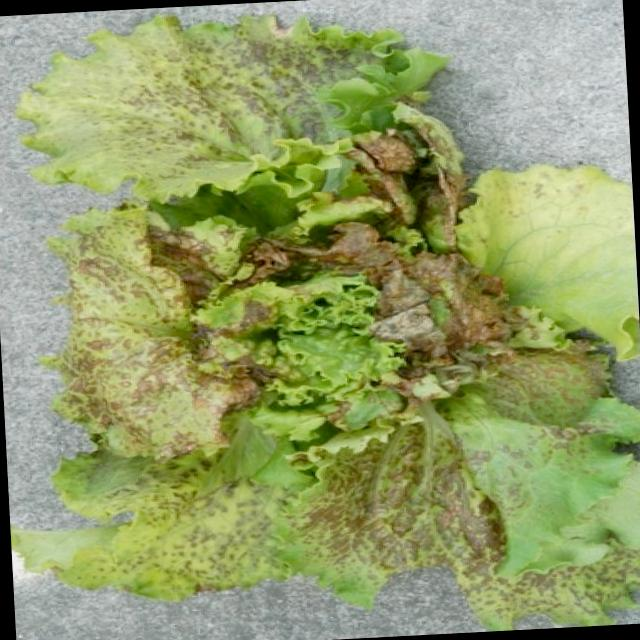Bacterial: (70, 81, 468, 586)
